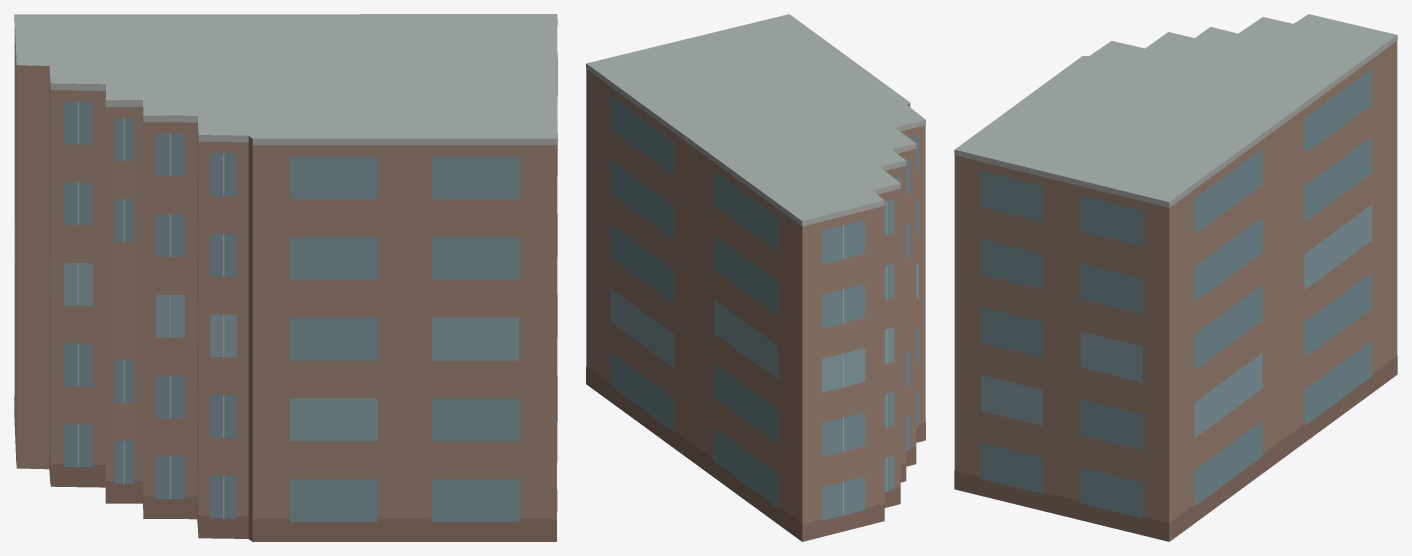
File: survey-upis-32991327.glb
3 renders of one model, left to right at view 1: azimuth 30°, elevation 25°; view 2: azimuth 150°, elevation 25°; view 3: azimuth 270°, elevation 25°, orthographic. The views are drawn at different scales.
Parts seen in each view (by area): view 1: survey-upis-32991327.tmp; view 2: survey-upis-32991327.tmp; view 3: survey-upis-32991327.tmp.
Boxes of the visible parts, left/top/right/bottom form: survey-upis-32991327.tmp: left=14, top=14, right=557, bottom=541; survey-upis-32991327.tmp: left=586, top=14, right=925, bottom=541; survey-upis-32991327.tmp: left=954, top=14, right=1397, bottom=541.
Bounding box in the file's own units: 17.48 × 14.7 × 17.39.
